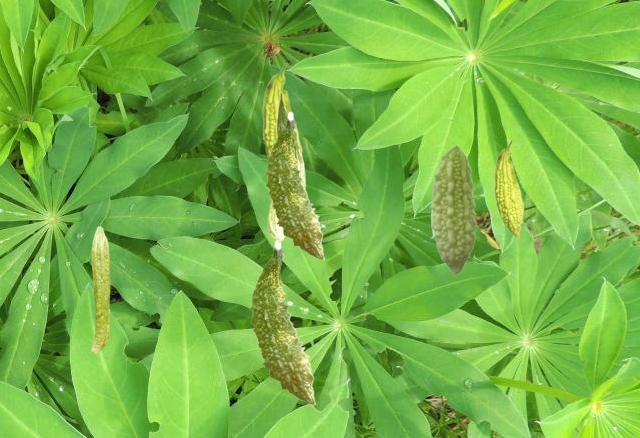ampalaya: (248, 240, 316, 405), (264, 111, 325, 260), (430, 144, 477, 276), (267, 91, 306, 244), (262, 62, 302, 158), (494, 140, 524, 242), (90, 226, 110, 354)
